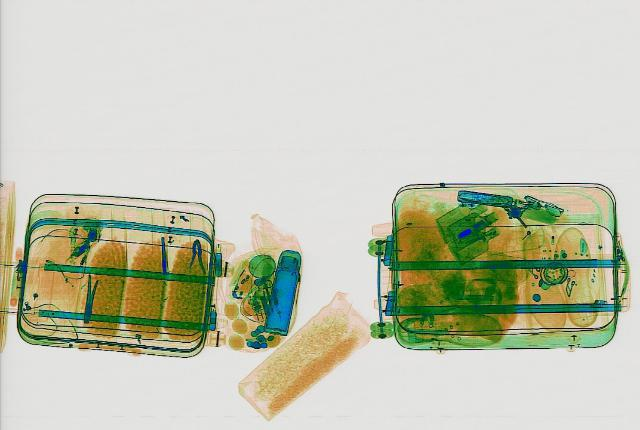Pliers: (186, 238, 204, 271)
